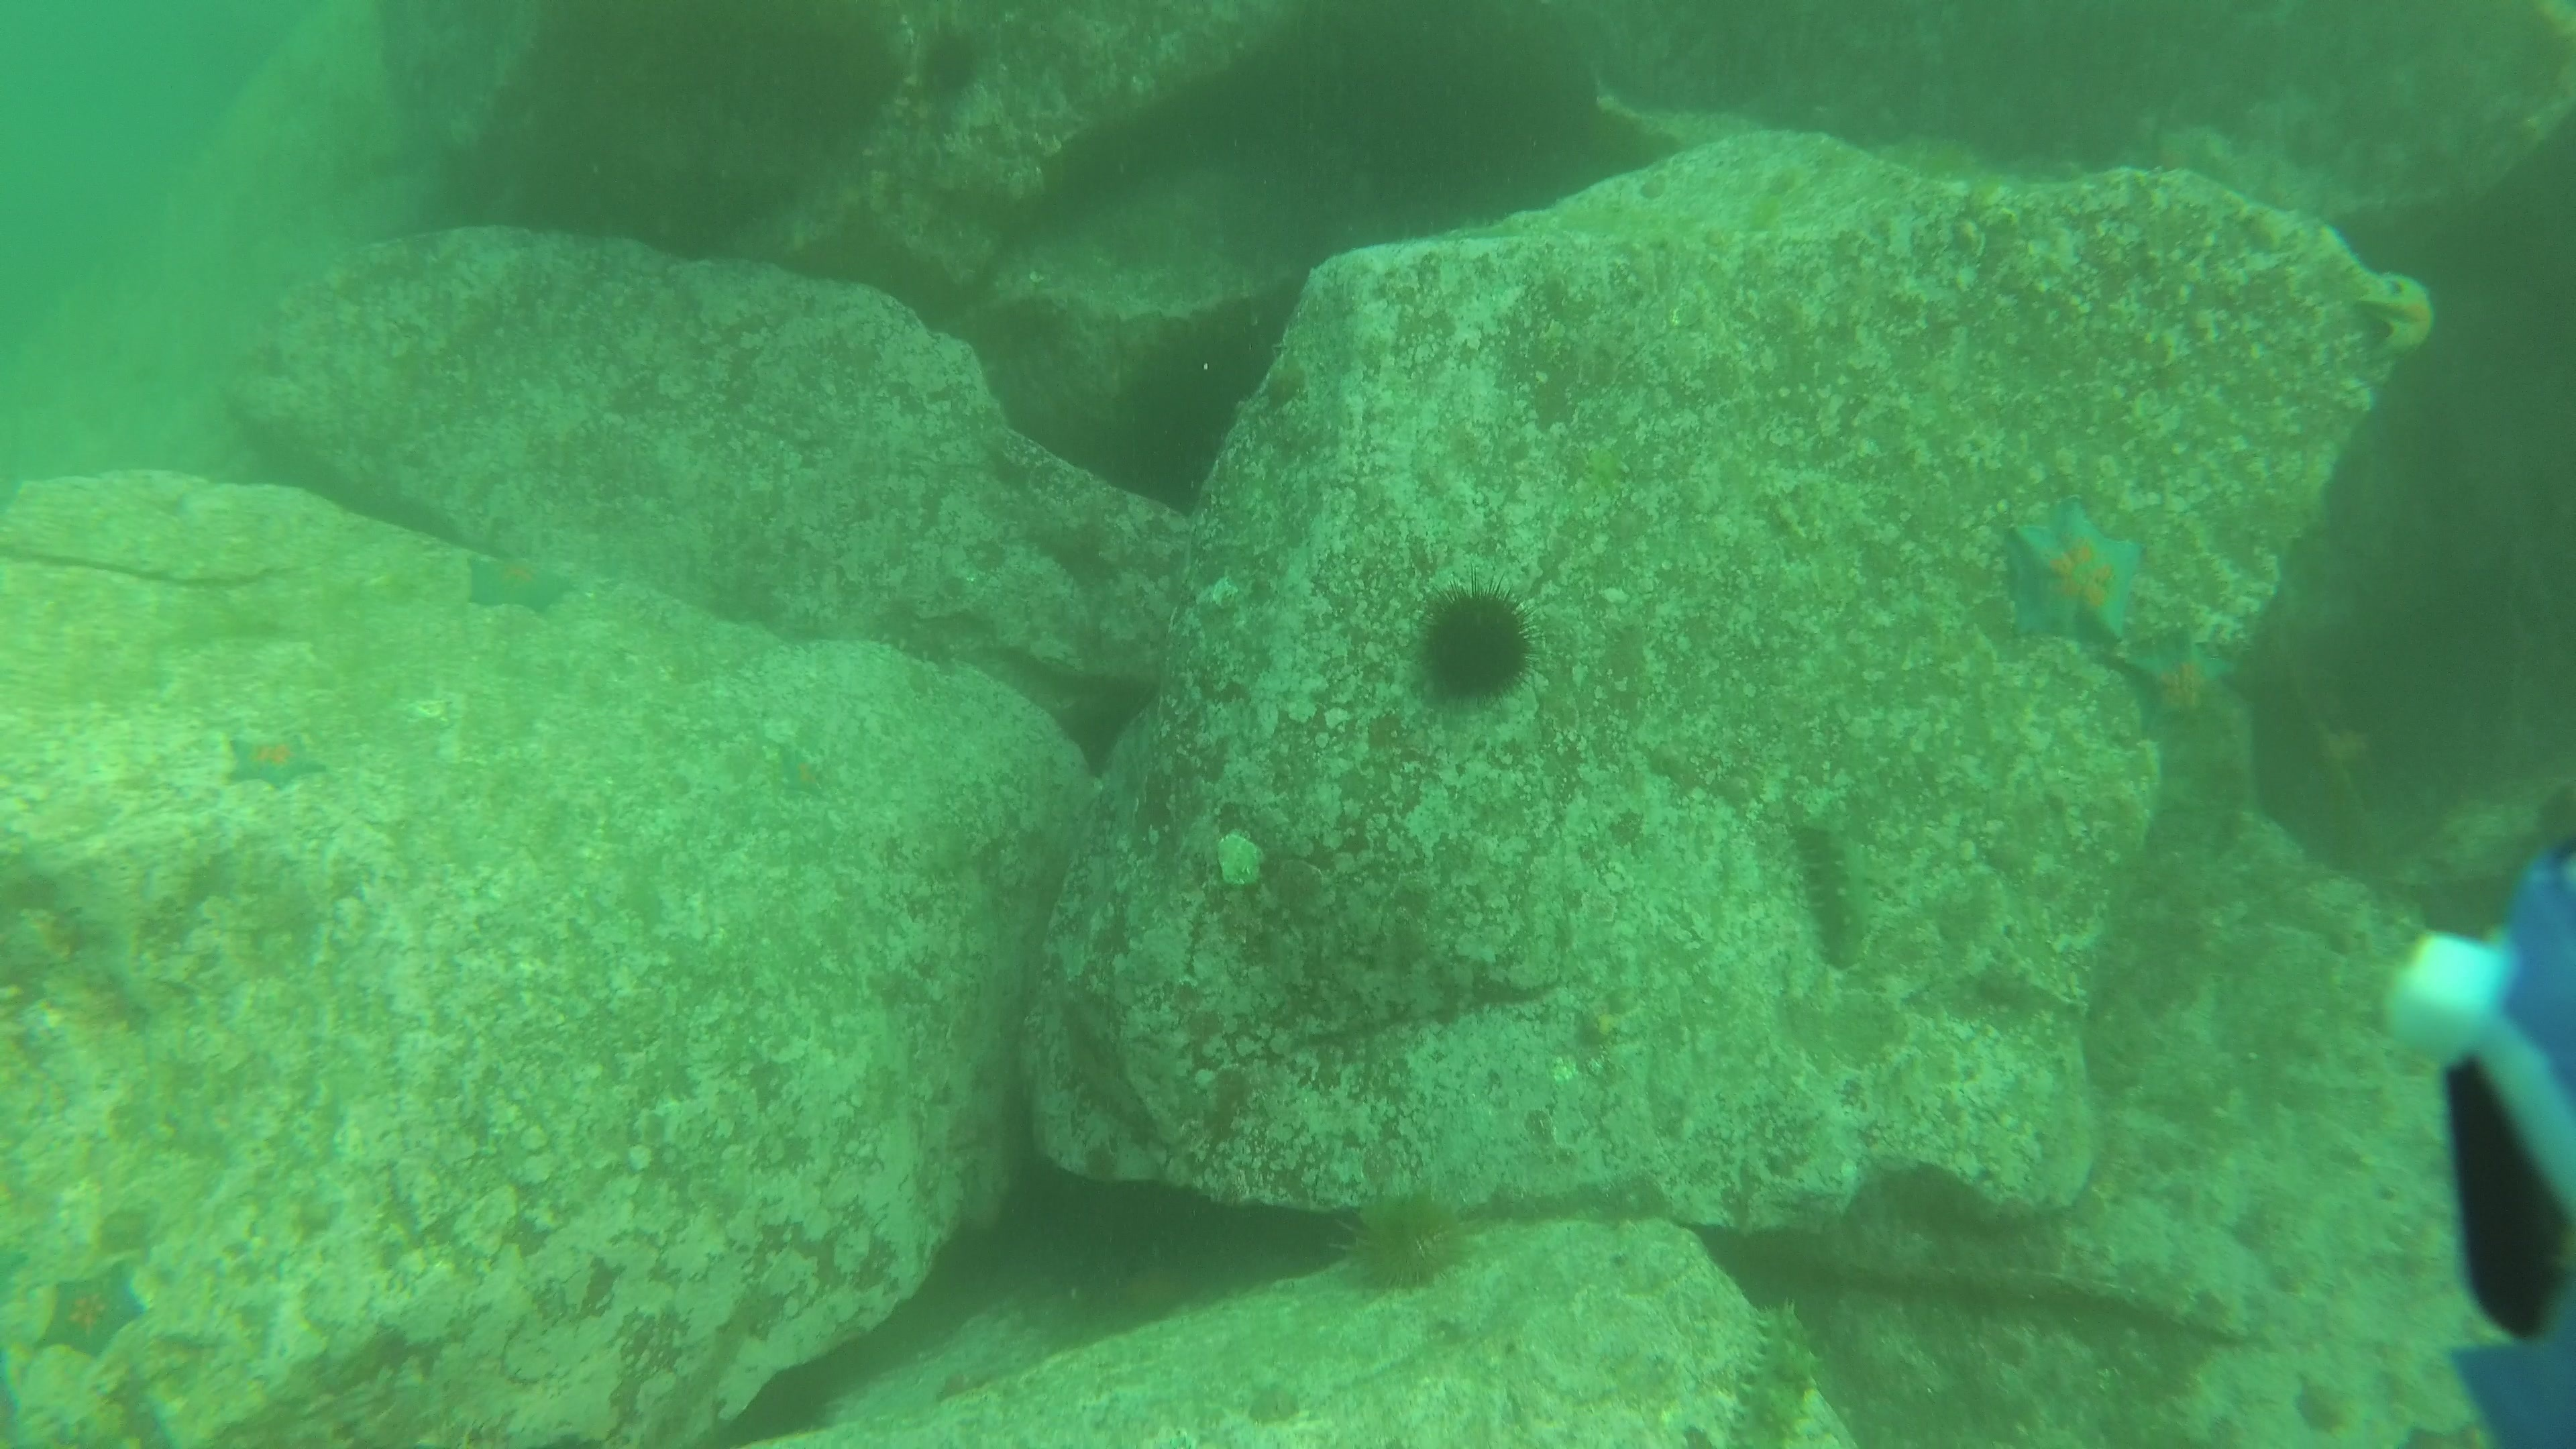echinus: (1405, 566, 1548, 717), (1320, 1171, 1483, 1302), (909, 11, 996, 106)
holothurian: (1775, 800, 1884, 975), (1729, 1292, 1828, 1449), (858, 614, 962, 672)
starfish: (2010, 485, 2148, 653), (2121, 619, 2243, 747), (35, 1256, 156, 1366), (458, 538, 579, 619), (2360, 264, 2443, 368), (226, 718, 333, 794)
